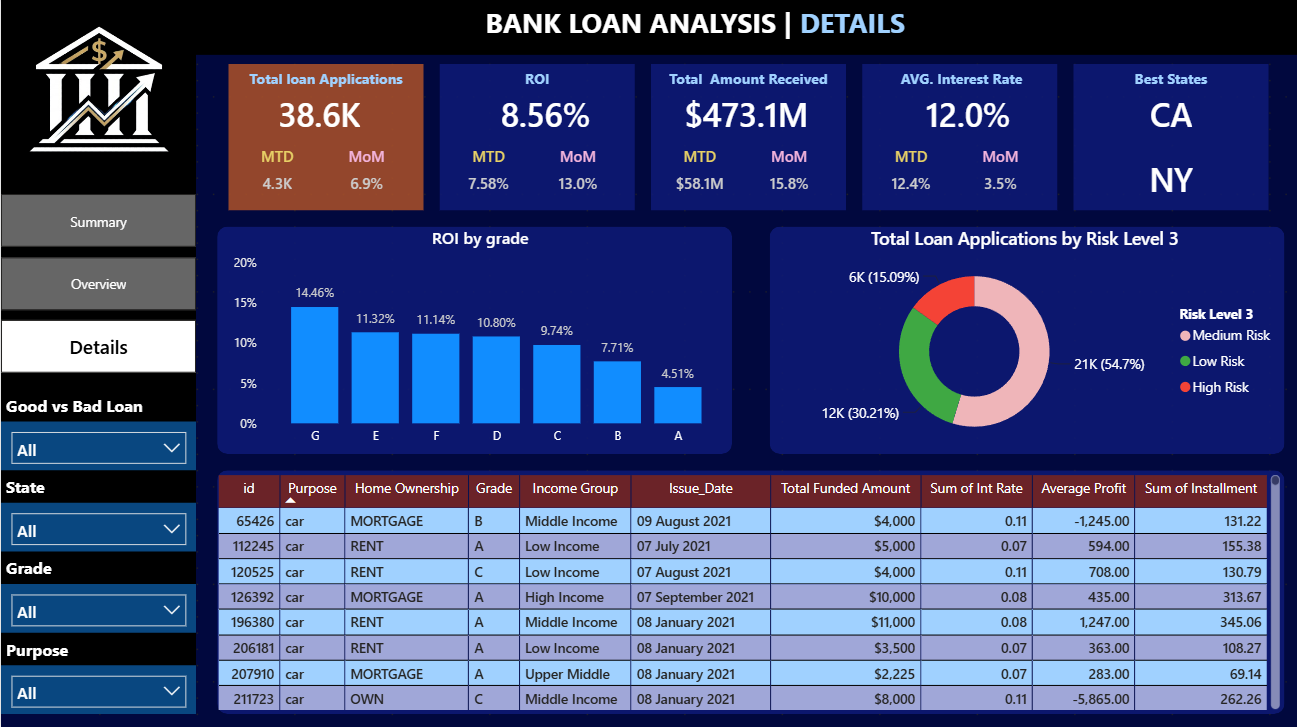

The page's visual inventory and layout, read from the dashboard file:
{"tool":"powerbi","page":{"name":"Details","canvas":[1280,720],"ordinal":2},"visuals":[{"type":"shape","box":[224,64,192,144],"z":0,"group":"g2"},{"type":"shape","box":[432,64,192,144],"z":0,"group":"g3"},{"type":"shape","box":[640,64,192,144],"z":0,"group":"g4"},{"type":"shape","box":[848,64,192,144],"z":0,"group":"g5"},{"type":"group","id":"g1","title":"Group 1","box":[1056,64,192,144],"z":0},{"type":"shape","box":[1056,64,192,144],"z":0,"group":"g1"},{"type":"slicer","fields":{"Values":["public cleaned_financial_loan.address_state"]},"box":[0,496,192,48],"z":0,"group":"g6"},{"type":"slicer","fields":{"Values":["public cleaned_financial_loan.grade"]},"box":[0,576,192,48],"z":0,"group":"g8"},{"type":"slicer","fields":{"Values":["public cleaned_financial_loan.purpose"]},"box":[0,656,192,48],"z":0,"group":"g7"},{"type":"cardVisual","fields":{"Data":["public cleaned_financial_loan.Total Loan Applications"]},"box":[224,80,192,64],"z":1000,"group":"g2"},{"type":"cardVisual","fields":{"Data":["public cleaned_financial_loan.ROI"]},"box":[416,80,240,64],"z":1000,"group":"g3"},{"type":"cardVisual","fields":{"Data":["public cleaned_financial_loan.Total Amount Received"]},"box":[624,80,240,64],"z":1000,"group":"g4"},{"type":"cardVisual","fields":{"Data":["public cleaned_financial_loan.AVG Interest Rate"]},"box":[832,80,240,64],"z":1000,"group":"g5"},{"type":"cardVisual","fields":{"Data":["public cleaned_financial_loan.Best State"]},"box":[1056,80,192,64],"z":1000,"group":"g1"},{"type":"textbox","box":[0,464,80,32],"z":1000,"group":"g6"},{"type":"shape","box":[208,464,1056,240],"z":1000},{"type":"textbox","box":[0,544,80,32],"z":1000,"group":"g8"},{"type":"textbox","box":[0,624,96,32],"z":1000,"group":"g7"},{"type":"textbox","box":[224,64,192,32],"z":2000,"group":"g2"},{"type":"textbox","box":[432,64,192,32],"z":2000,"group":"g3"},{"type":"textbox","box":[640,64,192,32],"z":2000,"group":"g4"},{"type":"textbox","box":[848,64,192,32],"z":2000,"group":"g5"},{"type":"textbox","box":[1056,64,192,32],"z":2000,"group":"g1"},{"type":"shape","box":[752,224,512,224],"z":2000},{"type":"cardVisual","title":"MTD","fields":{"Data":["public cleaned_financial_loan.MTD Loan Applications"]},"box":[224,144,96,64],"z":3000,"group":"g2"},{"type":"cardVisual","title":"MTD","fields":{"Data":["public cleaned_financial_loan.MTD ROI %"]},"box":[432,144,96,64],"z":3000,"group":"g3"},{"type":"cardVisual","title":"MTD","fields":{"Data":["public cleaned_financial_loan.MTD Total Amount Received"]},"box":[640,144,96,64],"z":3000,"group":"g4"},{"type":"cardVisual","title":"MTD","fields":{"Data":["public cleaned_financial_loan.MTD Avg Interest Rate"]},"box":[848,144,96,64],"z":3000,"group":"g5"},{"type":"cardVisual","fields":{"Data":["public cleaned_financial_loan.2nd Best State"]},"box":[1056,144,192,64],"z":3000},{"type":"cardVisual","title":"MoM","fields":{"Data":["public cleaned_financial_loan.MoM Loan Application"]},"box":[320,144,80,64],"z":4000,"group":"g2"},{"type":"cardVisual","title":"MoM","fields":{"Data":["public cleaned_financial_loan.MoM Funded Amount"]},"box":[528,144,80,64],"z":4000,"group":"g3"},{"type":"cardVisual","title":"MoM","fields":{"Data":["public cleaned_financial_loan.MoM Total Amount Received"]},"box":[736,144,80,64],"z":4000,"group":"g4"},{"type":"cardVisual","title":"MoM","fields":{"Data":["public cleaned_financial_loan.MoM Avg Interest Rate"]},"box":[944,144,80,64],"z":4000,"group":"g5"},{"type":"shape","box":[208,224,512,224],"z":4000},{"type":"shape","box":[0,0,1280,55],"z":5000},{"type":"shape","box":[0,32,192,672],"z":6000},{"type":"textbox","box":[384,0,592,48],"z":7000},{"type":"group","id":"g2","title":"Group 1","box":[224,64,192,144],"z":8000},{"type":"group","id":"g3","title":"Group 1","box":[416,64,240,144],"z":9000},{"type":"group","id":"g4","title":"Group 1","box":[624,64,240,144],"z":10000},{"type":"group","id":"g5","title":"Group 1","box":[832,64,240,144],"z":11000},{"type":"slicer","fields":{"Values":["public cleaned_financial_loan.Good vs Bad Loan"]},"box":[0,416,192,48],"z":12000},{"type":"textbox","box":[0,384,160,32],"z":13000},{"type":"group","id":"g6","title":"Group 2","box":[0,464,192,80],"z":14000},{"type":"group","id":"g7","title":"Group 5","box":[0,624,192,80],"z":15000},{"type":"group","id":"g8","title":"Group 3","box":[0,544,192,80],"z":16000},{"type":"columnChart","fields":{"Category":["public cleaned_financial_loan.grade"],"Y":["public cleaned_financial_loan.ROI"]},"box":[224,224,496,224],"z":17000},{"type":"donutChart","fields":{"Category":["public cleaned_financial_loan.Risk Level 3"],"Y":["public cleaned_financial_loan.Total Loan Applications"]},"box":[752,224,512,224],"z":18000},{"type":"tableEx","fields":{"Values":["public cleaned_financial_loan.id","public cleaned_financial_loan.purpose","public cleaned_financial_loan.home_ownership","public cleaned_financial_loan.grade","public cleaned_financial_loan.income_group","public cleaned_financial_loan.issue_date","public cleaned_financial_loan.Total Funded Amount","Sum(public cleaned_financial_loan.int_rate)","public cleaned_financial_loan.Average Profit","Sum(public cleaned_financial_loan.installment)"]},"box":[208,464,1056,240],"z":19000},{"type":"pageNavigator","box":[0,192,192,176],"z":20000},{"type":"image","box":[0,0,192,176],"z":20001}]}

Visuals, with their boxes in screenshot pixels (x1, y1, x2, y2), scaled from the page's 1280x720 canvas onto the 1297x727 screenshot:
shape: (227, 65, 422, 210)
shape: (438, 65, 632, 210)
shape: (648, 65, 843, 210)
shape: (859, 65, 1054, 210)
"Group 1" group: (1070, 65, 1265, 210)
shape: (1070, 65, 1265, 210)
slicer - public cleaned_financial_loan.address_state: (0, 501, 195, 549)
slicer - public cleaned_financial_loan.grade: (0, 582, 195, 630)
slicer - public cleaned_financial_loan.purpose: (0, 662, 195, 711)
cardVisual - public cleaned_financial_loan.Total Loan Applications: (227, 81, 422, 145)
cardVisual - public cleaned_financial_loan.ROI: (422, 81, 665, 145)
cardVisual - public cleaned_financial_loan.Total Amount Received: (632, 81, 875, 145)
cardVisual - public cleaned_financial_loan.AVG Interest Rate: (843, 81, 1086, 145)
cardVisual - public cleaned_financial_loan.Best State: (1070, 81, 1265, 145)
textbox: (0, 469, 81, 501)
shape: (211, 469, 1281, 711)
textbox: (0, 549, 81, 582)
textbox: (0, 630, 97, 662)
textbox: (227, 65, 422, 97)
textbox: (438, 65, 632, 97)
textbox: (648, 65, 843, 97)
textbox: (859, 65, 1054, 97)
textbox: (1070, 65, 1265, 97)
shape: (762, 226, 1281, 452)
"MTD" cardVisual: (227, 145, 324, 210)
"MTD" cardVisual: (438, 145, 535, 210)
"MTD" cardVisual: (648, 145, 746, 210)
"MTD" cardVisual: (859, 145, 957, 210)
cardVisual - public cleaned_financial_loan.2nd Best State: (1070, 145, 1265, 210)
"MoM" cardVisual: (324, 145, 405, 210)
"MoM" cardVisual: (535, 145, 616, 210)
"MoM" cardVisual: (746, 145, 827, 210)
"MoM" cardVisual: (957, 145, 1038, 210)
shape: (211, 226, 730, 452)
shape: (0, 0, 1296, 56)
shape: (0, 32, 195, 711)
textbox: (389, 0, 989, 48)
"Group 1" group: (227, 65, 422, 210)
"Group 1" group: (422, 65, 665, 210)
"Group 1" group: (632, 65, 875, 210)
"Group 1" group: (843, 65, 1086, 210)
slicer - public cleaned_financial_loan.Good vs Bad Loan: (0, 420, 195, 469)
textbox: (0, 388, 162, 420)
"Group 2" group: (0, 469, 195, 549)
"Group 5" group: (0, 630, 195, 711)
"Group 3" group: (0, 549, 195, 630)
columnChart - public cleaned_financial_loan.grade x public cleaned_financial_loan.ROI: (227, 226, 730, 452)
donutChart - public cleaned_financial_loan.Risk Level 3 x public cleaned_financial_loan.Total Loan Applications: (762, 226, 1281, 452)
tableEx - public cleaned_financial_loan.id x public cleaned_financial_loan.purpose: (211, 469, 1281, 711)
pageNavigator: (0, 194, 195, 372)
image: (0, 0, 195, 178)
